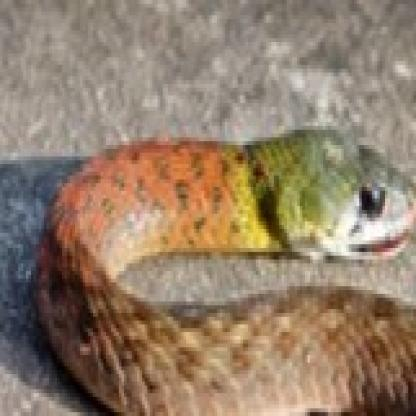snakes: (38, 128, 416, 416)
